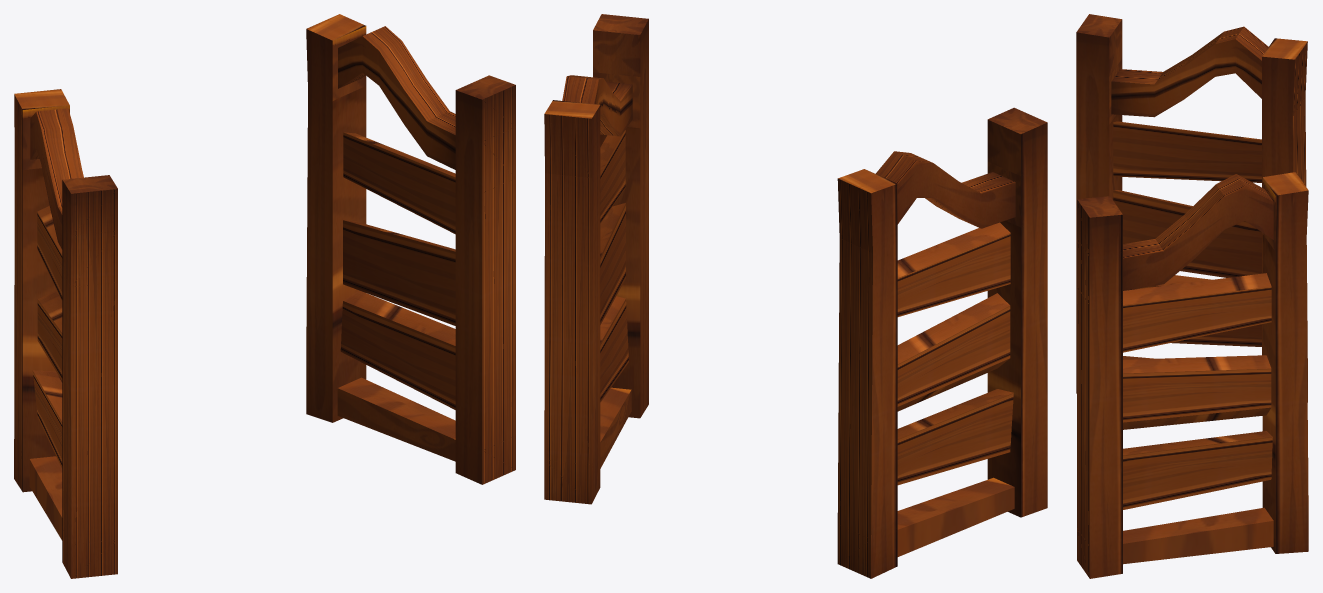
The picture shows the model from 3 angles, left to right: view 1: azimuth 30°, elevation 25°; view 2: azimuth 150°, elevation 25°; view 3: azimuth 270°, elevation 25°; orthographic projection. The views are drawn at different scales.
Visible parts, largest first — view 1: puerta derecha, puerta izquierda; view 2: puerta izquierda, puerta derecha; view 3: puerta derecha, puerta izquierda.
Part boxes in pixels (left/top/right/bottom): puerta derecha: left=306, top=14, right=515, bottom=484; puerta izquierda: left=14, top=89, right=117, bottom=578; puerta izquierda: left=837, top=107, right=1047, bottom=578; puerta derecha: left=544, top=14, right=648, bottom=504; puerta derecha: left=1077, top=172, right=1308, bottom=578; puerta izquierda: left=1076, top=14, right=1307, bottom=402.
Bounding box in the file's own units: 135 × 114 × 65.04.
